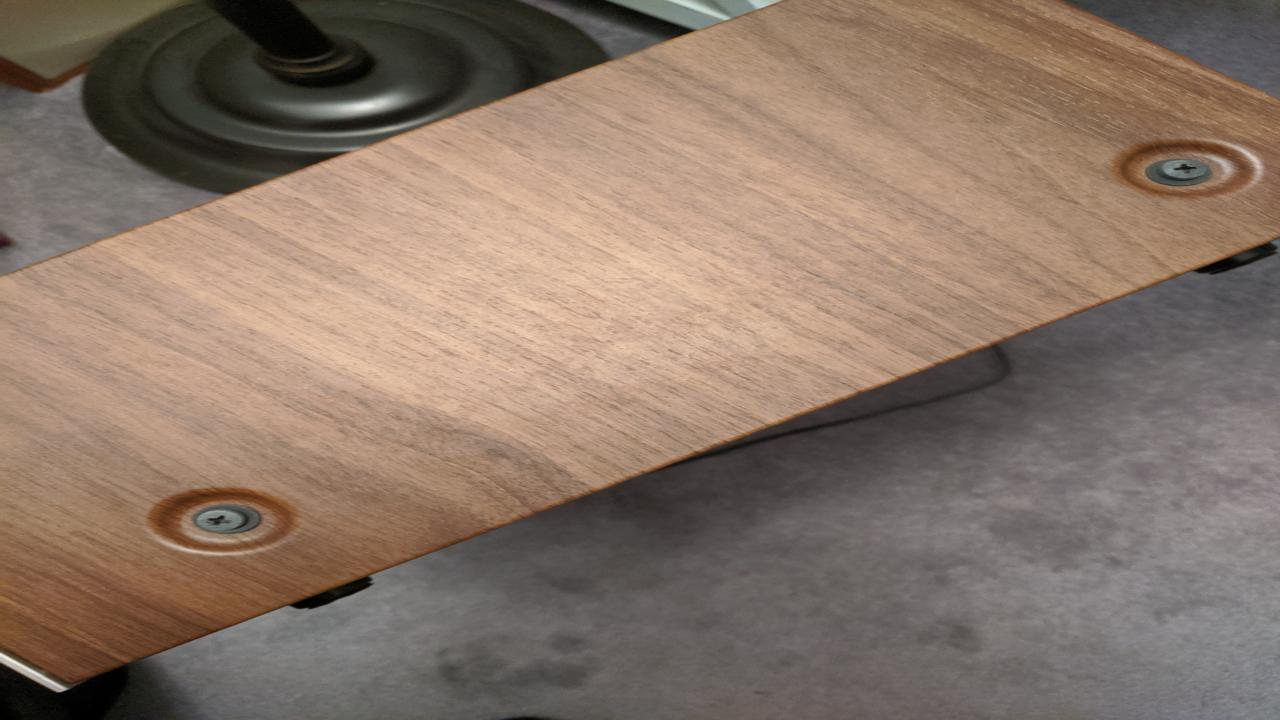CRS: (192, 504, 262, 536), (1143, 157, 1217, 184)
